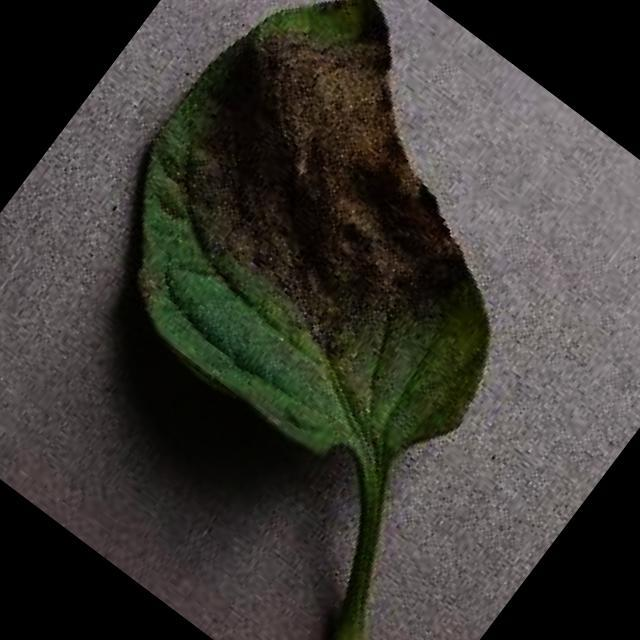Tomato late blight leaf: (49, 0, 634, 518)
